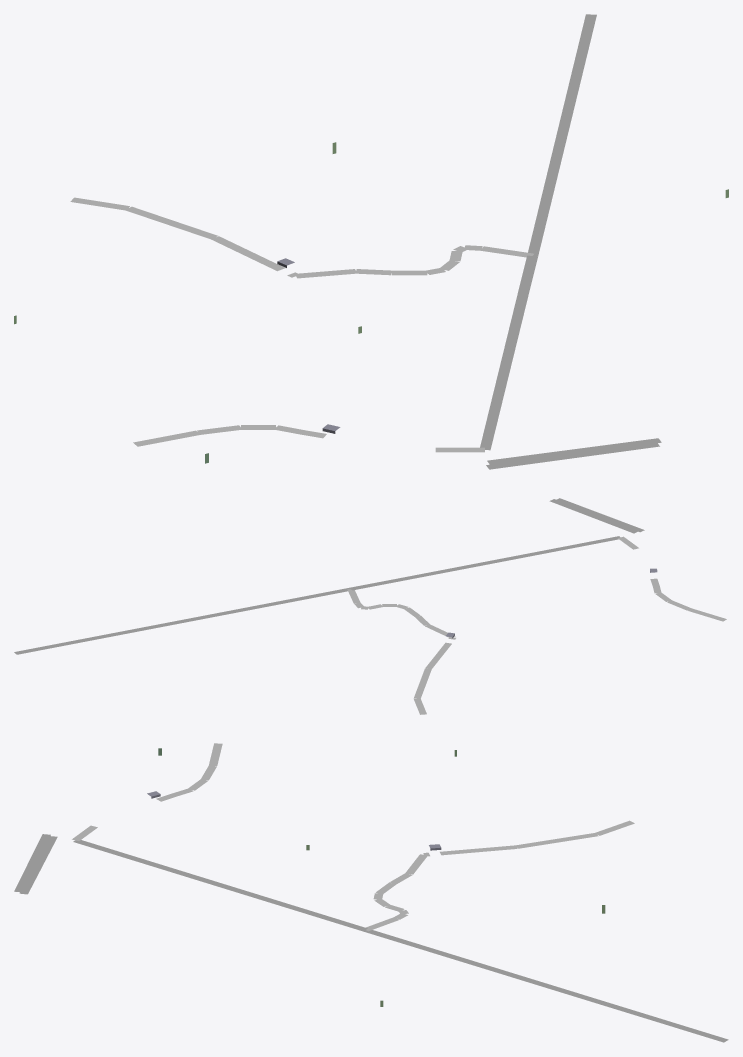
The picture shows the model from 3 angles, top to bottom: view 1: azimuth 30°, elevation 25°; view 2: azimuth 150°, elevation 25°; view 3: azimuth 270°, elevation 25°; orthographic projection. The views are drawn at different scales.
Size of the model in its own units: 571 by 9.01 by 580.
